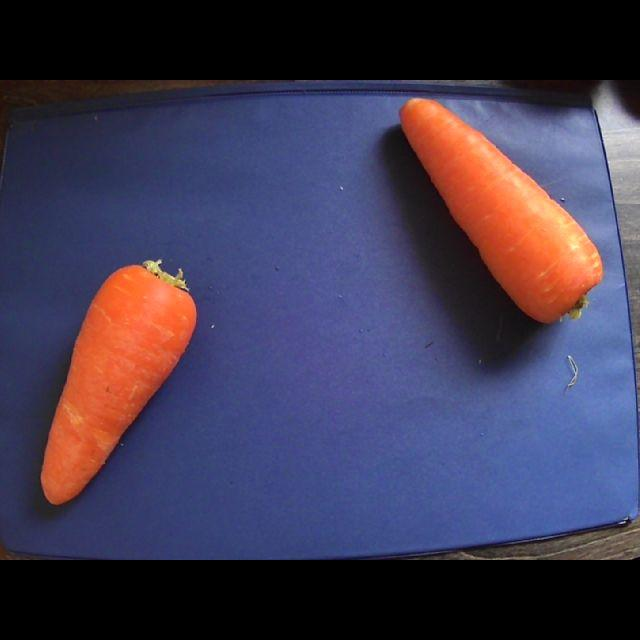zanahoria: (400, 98, 603, 323), (41, 260, 196, 504)
